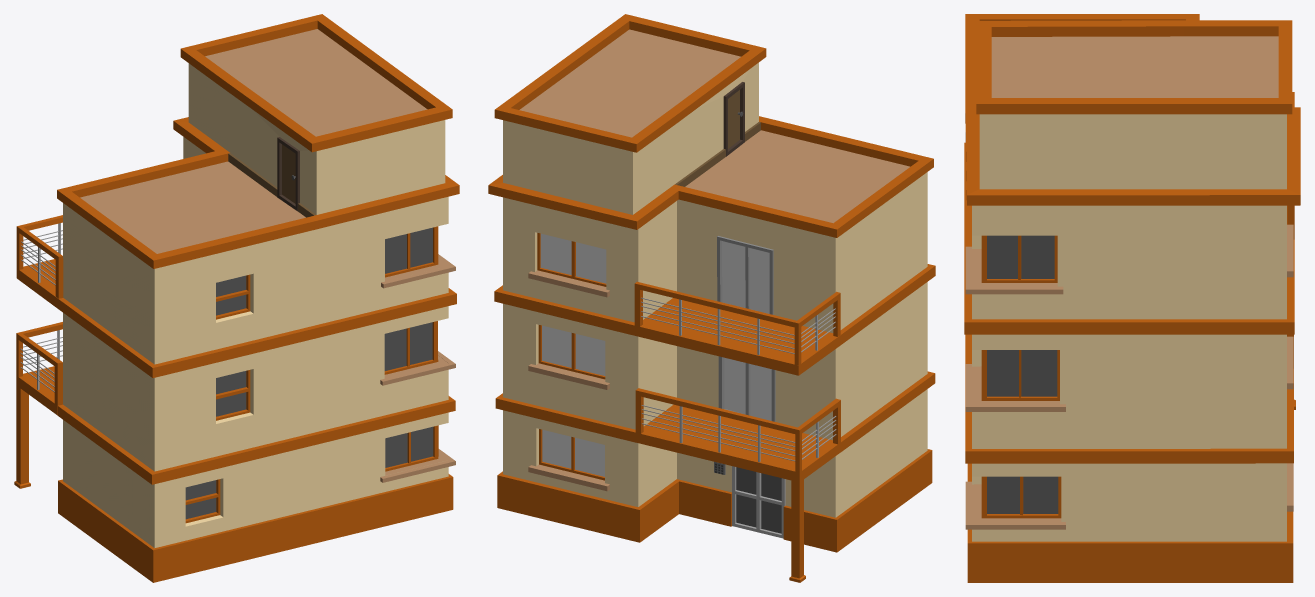
The model's file is Building B Orange.fbx.
3 views of the same model, side by side, from view 1: azimuth 30°, elevation 25°; view 2: azimuth 150°, elevation 25°; view 3: azimuth 270°, elevation 25° (orthographic). The views are drawn at different scales.
Parts seen in each view (by area): view 1: Building B Orange.001; view 2: Building B Orange.001; view 3: Building B Orange.001.
Boxes of the visible parts, x1,y1,x2,y2 form: Building B Orange.001: (14, 14, 459, 582); Building B Orange.001: (488, 14, 935, 582); Building B Orange.001: (964, 14, 1300, 582).
Bounding box in the file's own units: 1363 × 1058 × 1670.
